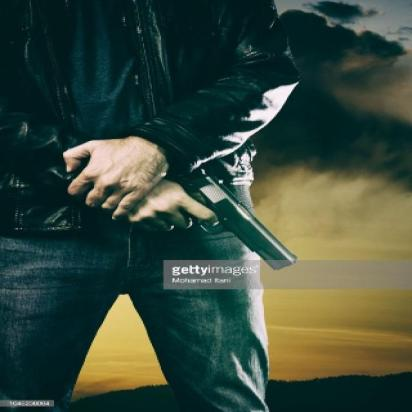Gun: (173, 162, 300, 268)
